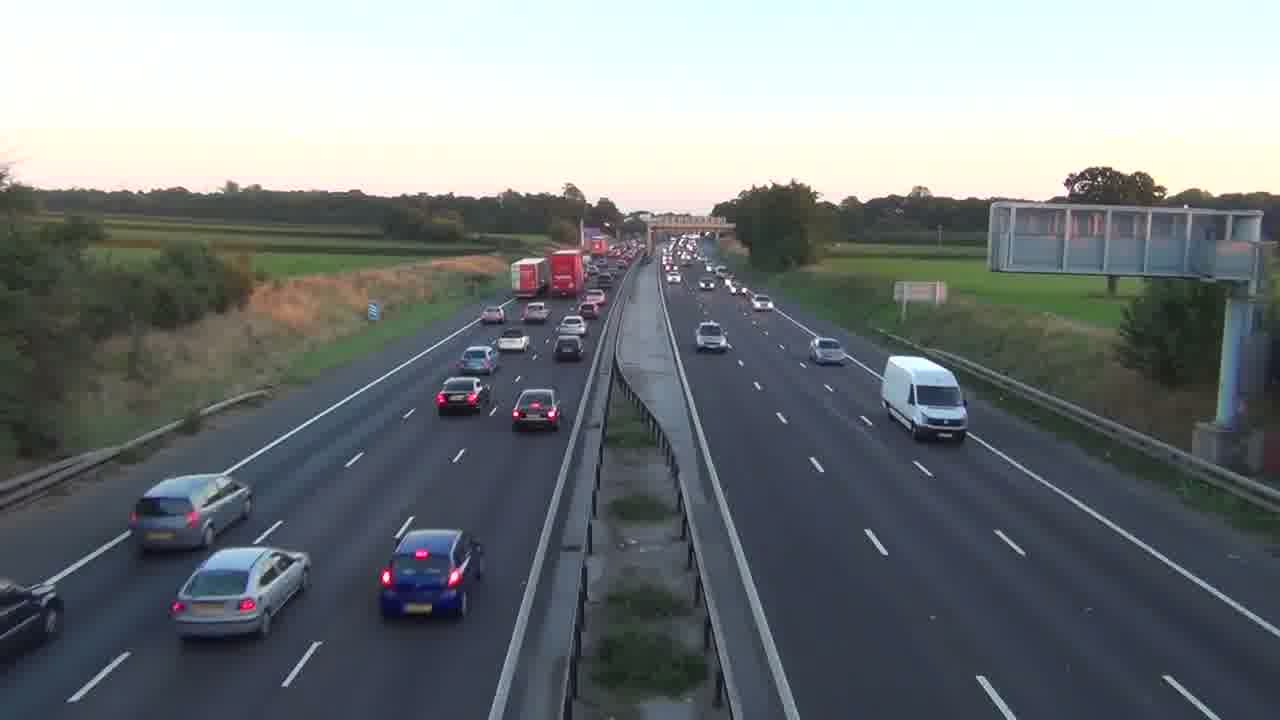car: (167, 545, 311, 641), (376, 515, 485, 619), (128, 473, 255, 554), (0, 575, 65, 659), (510, 387, 561, 432), (434, 376, 483, 417), (694, 320, 730, 353), (809, 336, 846, 365), (553, 333, 584, 363), (462, 344, 495, 372), (523, 300, 550, 323), (479, 307, 505, 325)
truck: (880, 353, 969, 442)
